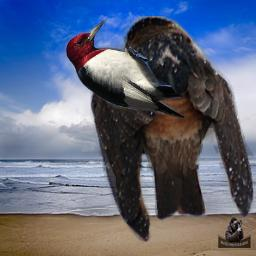Swallow: (90, 16, 256, 244)
Woodpecker: (59, 18, 193, 119)
